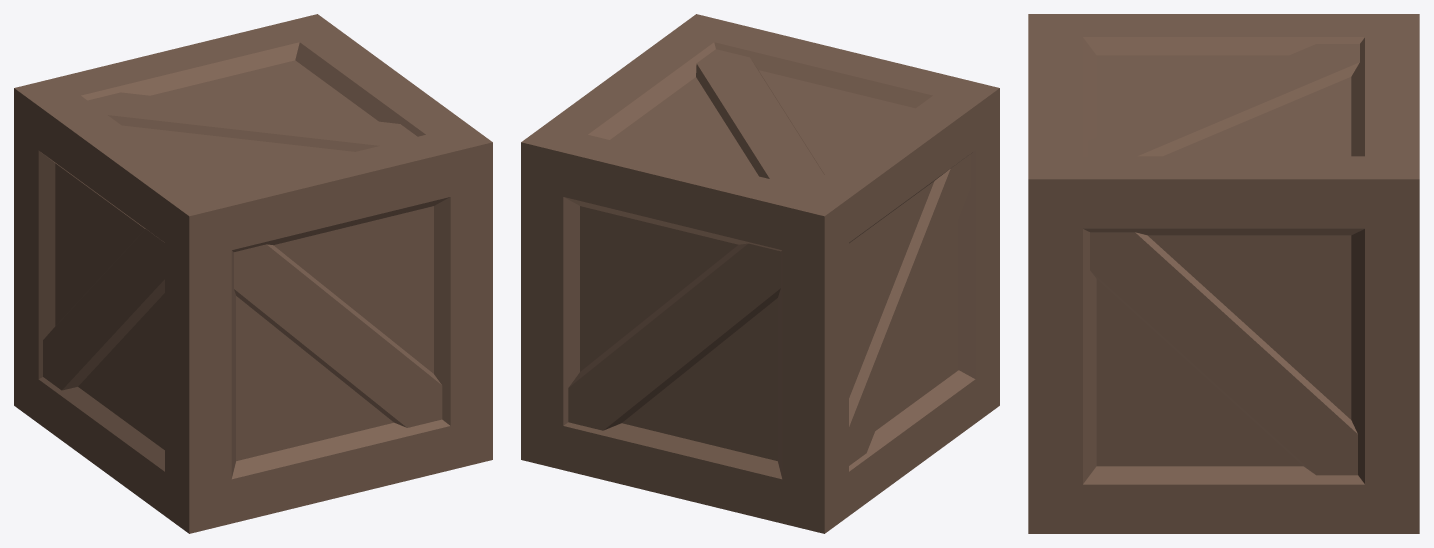
File: mdl_crate01.fbx
The picture shows the model from 3 angles, left to right: view 1: azimuth 30°, elevation 25°; view 2: azimuth 150°, elevation 25°; view 3: azimuth 270°, elevation 25°; orthographic projection. The views are drawn at different scales.
Visible parts, largest first — view 1: mdl_crate02; view 2: mdl_crate02; view 3: mdl_crate02.
Part boxes in pixels (x1,y1,x2,y2): mdl_crate02: (14, 14, 492, 533); mdl_crate02: (521, 14, 999, 533); mdl_crate02: (1028, 14, 1419, 533).
Size of the model in its own units: 28.69 by 28.69 by 28.69.
Materials: 1 (1 with a texture image).
